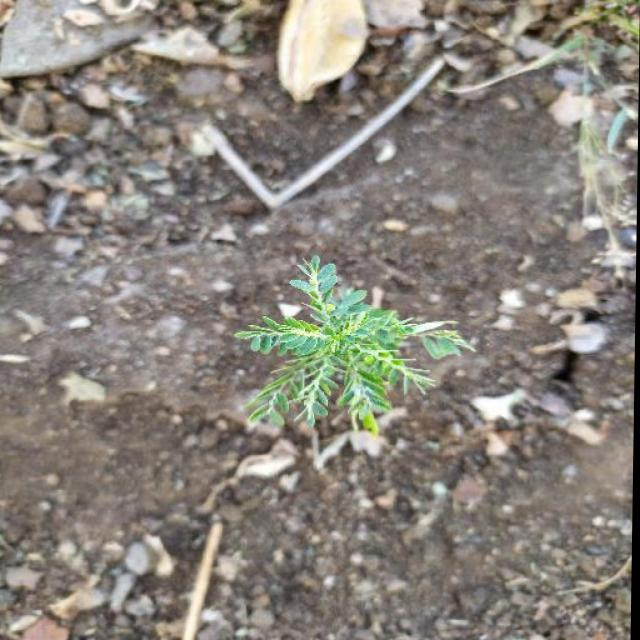weed: (228, 242, 480, 448)
